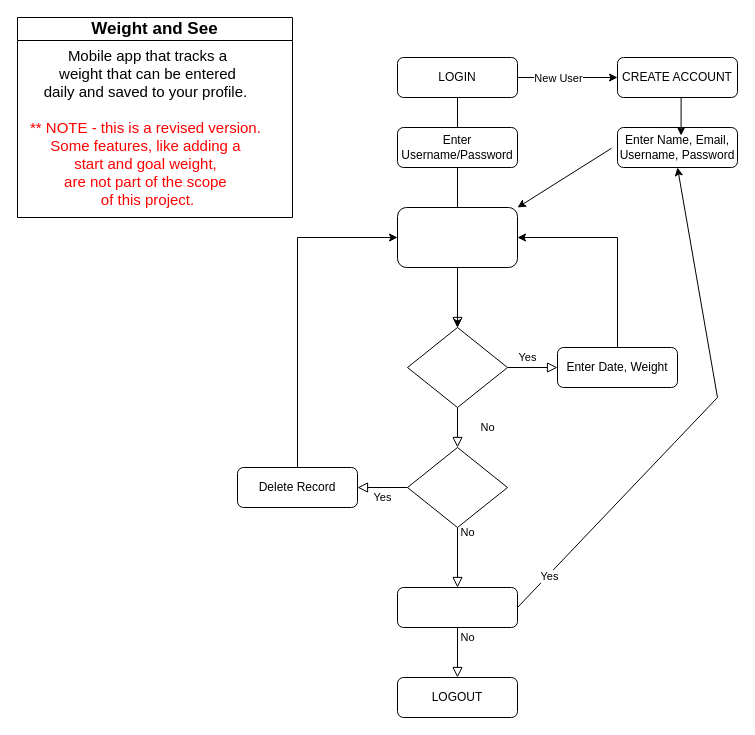
Image size: 755x735. Some labels were removed from this diagram. Each missing label, with the centre of its shape:
"Add New Weight?" goes at pixel 457 367.
"Delete Weight?" goes at pixel 457 487.
"Update Profile" goes at pixel 457 607.
"Weight Progress Screen (Display last 5 weights entered)" goes at pixel 457 237.
